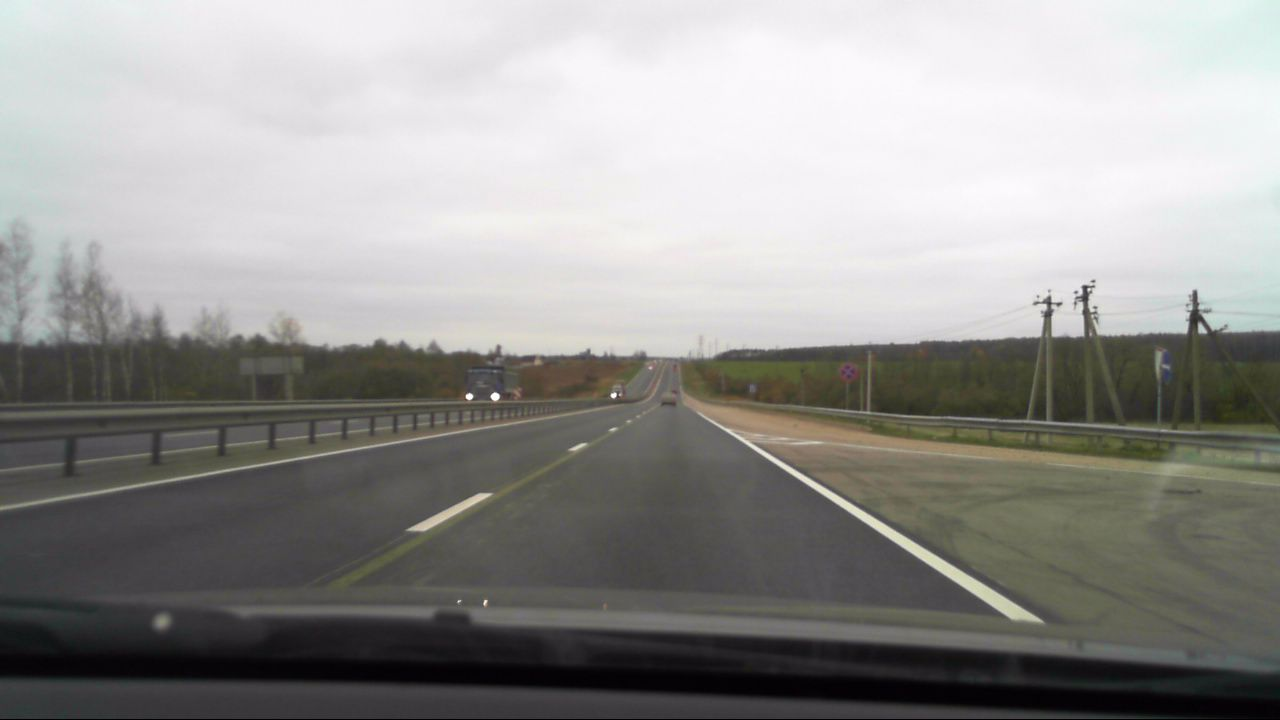No Parking: (836, 361, 856, 383)
